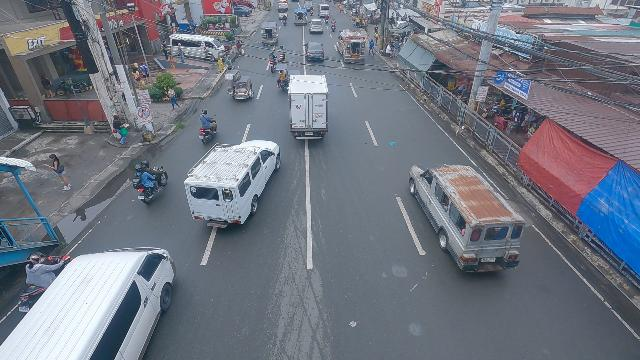car: (305, 41, 325, 62), (309, 17, 324, 34), (278, 0, 289, 11)
jeepney: (407, 162, 527, 278), (335, 28, 366, 67), (259, 21, 279, 46), (293, 8, 308, 26)
motorcycle: (17, 247, 76, 318), (130, 164, 169, 204), (196, 112, 222, 145), (267, 54, 277, 73), (277, 48, 287, 64), (281, 12, 288, 25), (330, 18, 336, 32), (324, 12, 330, 24), (310, 7, 314, 16)
truck: (286, 74, 331, 139)
van: (0, 243, 181, 360), (183, 138, 281, 228), (169, 33, 227, 63), (317, 4, 330, 18)
